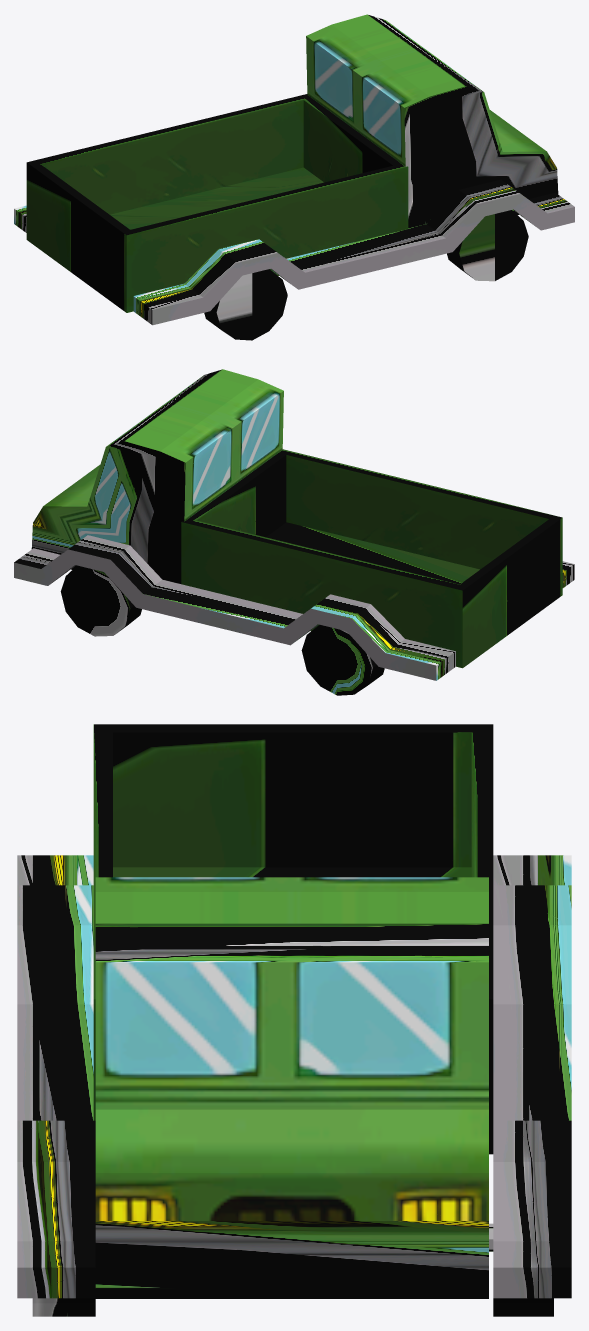
File: Altiz.glb
3 views of the same model, one above another, from view 1: azimuth 30°, elevation 25°; view 2: azimuth 150°, elevation 25°; view 3: azimuth 270°, elevation 25° (orthographic). The views are drawn at different scales.
Parts seen in each view (by area): view 1: Altiz; view 2: Altiz; view 3: Altiz.
Boxes of the visible parts, <box> form: Altiz: <box>14,14,574,340</box>; Altiz: <box>14,369,574,695</box>; Altiz: <box>17,724,571,1316</box>.
Bounding box in the file's own units: 333 × 137 × 185.
1 material, 1 textured.
